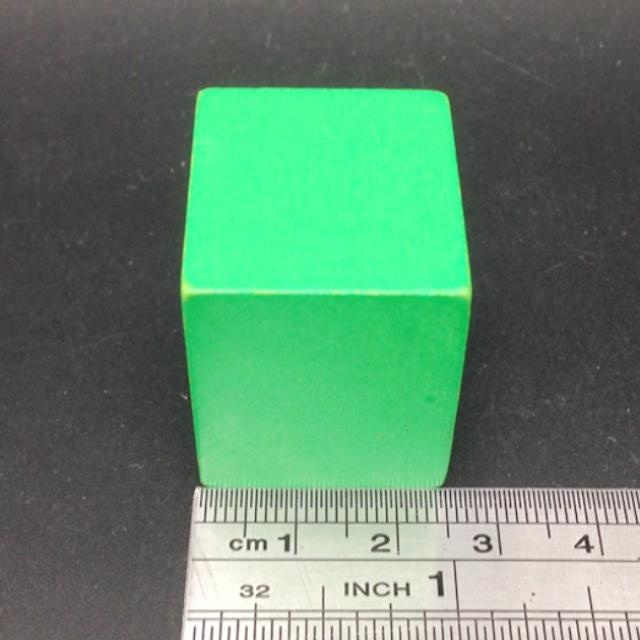green cube: (178, 75, 477, 488)
